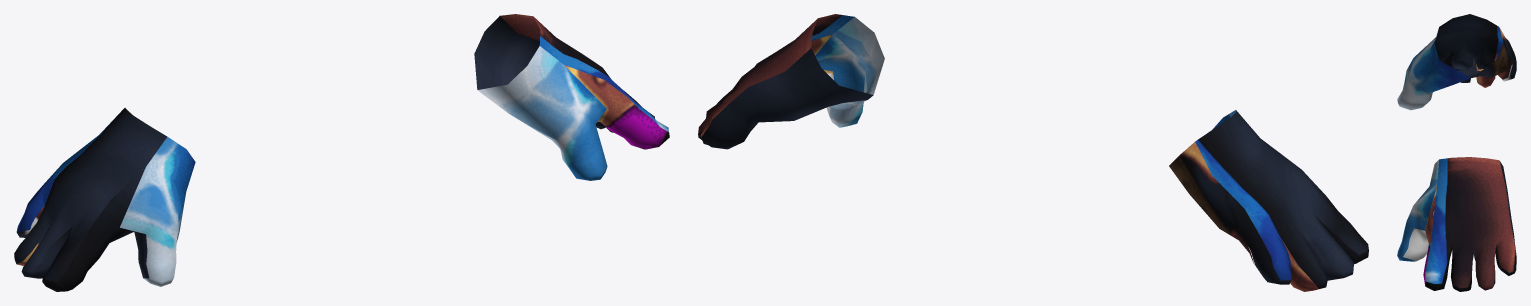
The model's file is handsUV.glb.
3 renders of one model, left to right at view 1: azimuth 30°, elevation 25°; view 2: azimuth 150°, elevation 25°; view 3: azimuth 270°, elevation 25°, orthographic. The views are drawn at different scales.
Visible parts, largest first — view 1: Hands Final; view 2: Hands Final; view 3: Hands Final.
Boxes of the visible parts, x1=… form: Hands Final: x1=14, y1=14, x2=669, y2=291; Hands Final: x1=698, y1=14, x2=1368, y2=291; Hands Final: x1=1397, y1=14, x2=1516, y2=291.
Size of the model in its own units: 1.36 by 0.2873 by 0.3053.
Materials: 1 (1 with a texture image).
